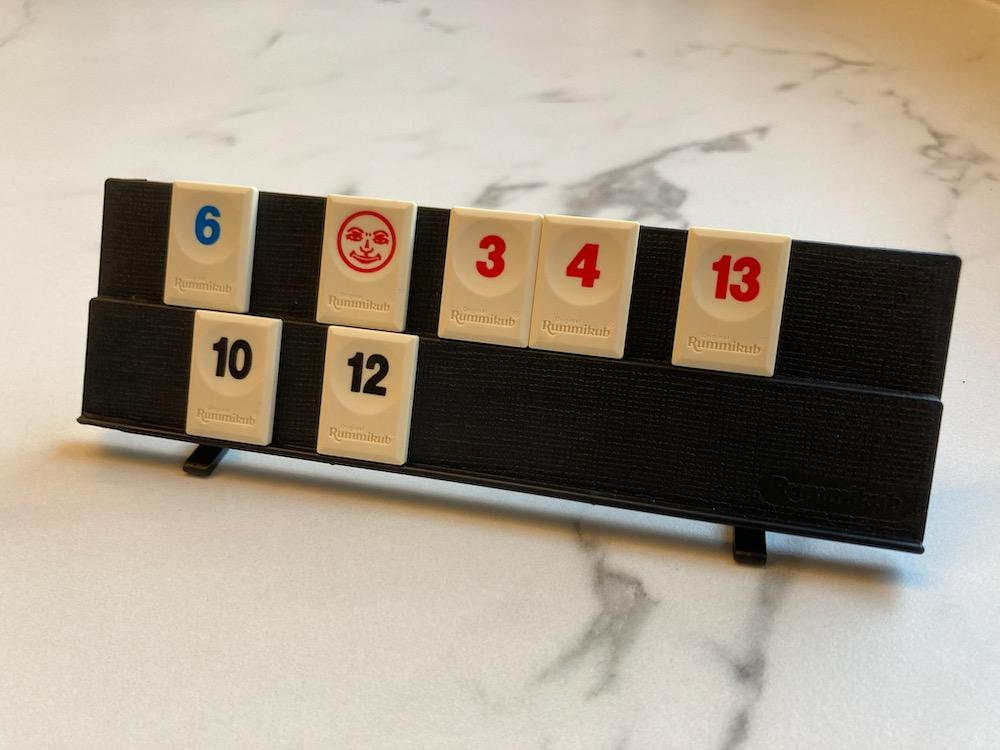black_10: (186, 311, 283, 445)
black_12: (316, 326, 418, 465)
blue_6: (164, 182, 258, 312)
joker: (316, 195, 418, 332)
red_13: (672, 227, 791, 377)
red_3: (438, 207, 541, 348)
red_4: (530, 215, 639, 357)
